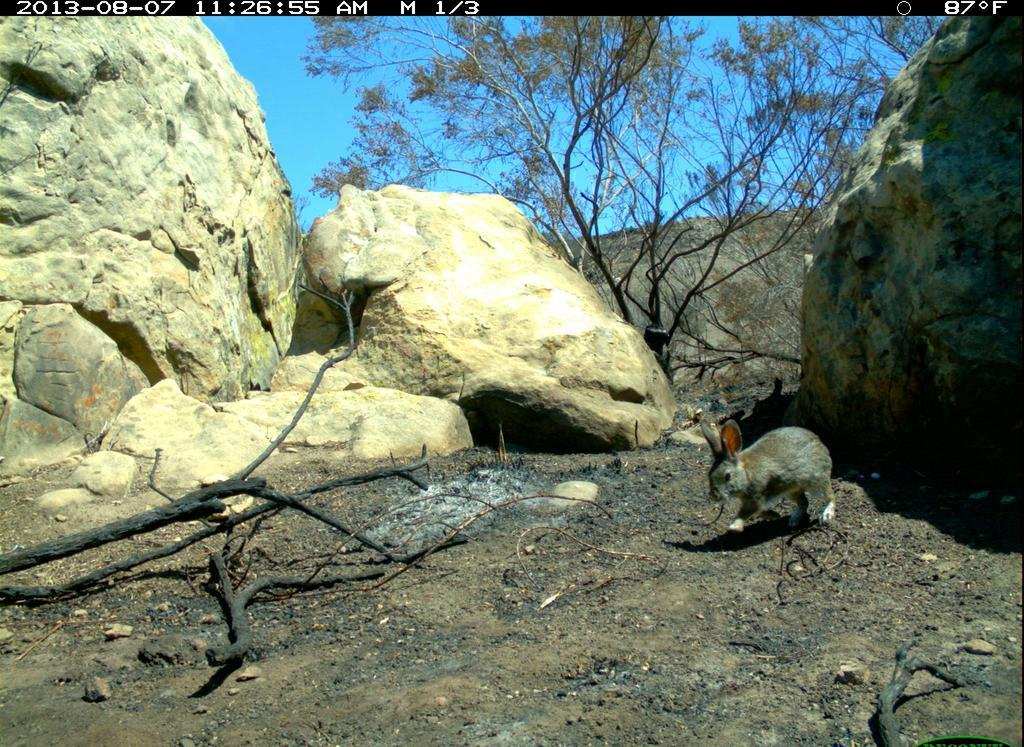rabbit: (692, 414, 843, 543)
